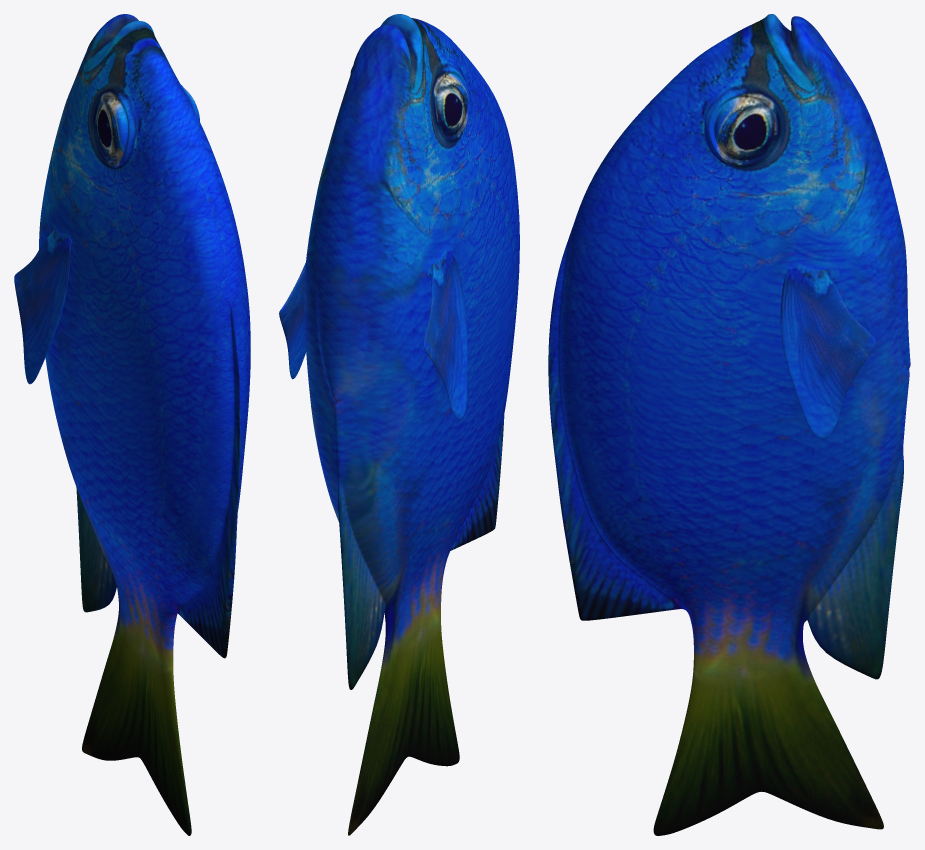
Rendered from 13016_Yellowtai_ Damselfish_v2_l3.obj.
3 renders of one model, left to right at view 1: azimuth 30°, elevation 25°; view 2: azimuth 150°, elevation 25°; view 3: azimuth 270°, elevation 25°, orthographic. The views are drawn at different scales.
Parts seen in each view (by area): view 1: 13016_Yellowtai__Damselfish_v1; view 2: 13016_Yellowtai__Damselfish_v1; view 3: 13016_Yellowtai__Damselfish_v1.
Boxes of the visible parts, x1,y1,x2,y2 form: 13016_Yellowtai__Damselfish_v1: (14,14,250,835); 13016_Yellowtai__Damselfish_v1: (279,14,519,835); 13016_Yellowtai__Damselfish_v1: (548,14,910,835).
Size of the model in its own units: 0.7488 by 3.36 by 1.34.
1 material, 1 textured.
